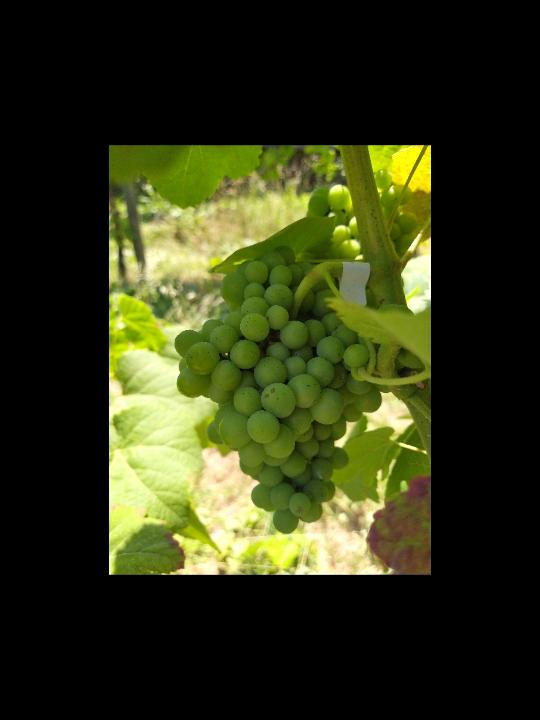grape: (174, 247, 390, 534)
